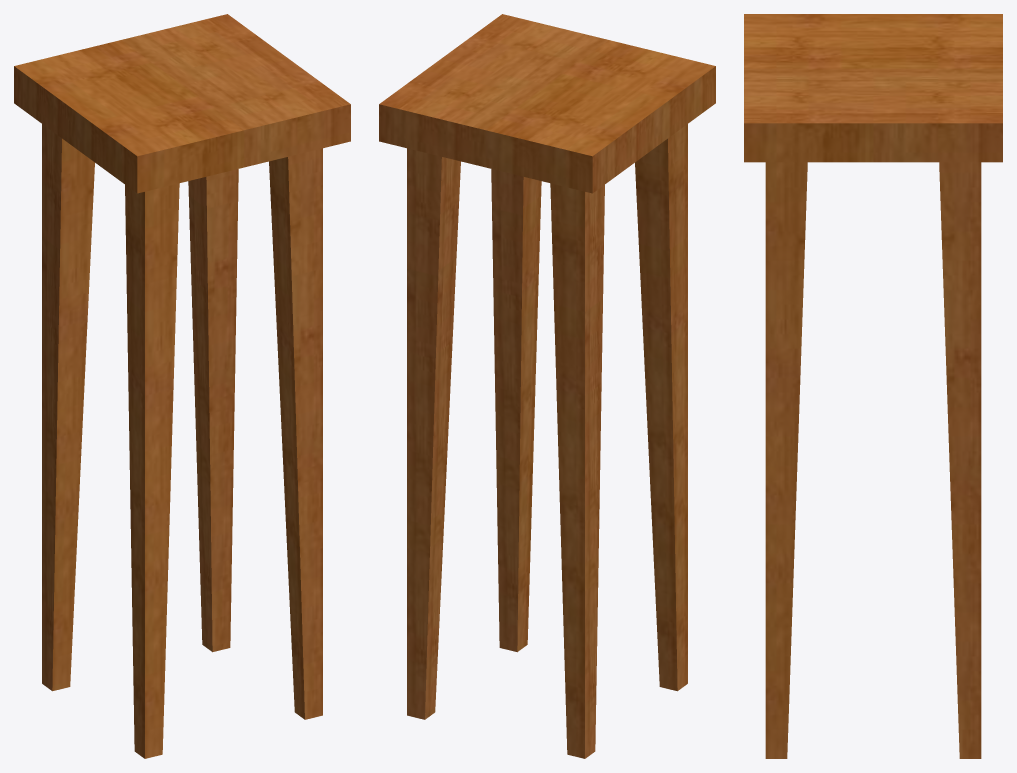
The model's file is sidetable.gltf.
3 views of the same model, side by side, from view 1: azimuth 30°, elevation 25°; view 2: azimuth 150°, elevation 25°; view 3: azimuth 270°, elevation 25° (orthographic). The views are drawn at different scales.
Parts seen in each view (by area): view 1: Mesh1 Model; view 2: Mesh1 Model; view 3: Mesh1 Model.
Part boxes in pixels (left/top/right/bottom): Mesh1 Model: left=14, top=14, right=350, bottom=758; Mesh1 Model: left=379, top=14, right=715, bottom=758; Mesh1 Model: left=744, top=14, right=1002, bottom=758.
Size of the model in its own units: 0.3048 by 0.8382 by 0.3048.
2 materials, 1 textured.
